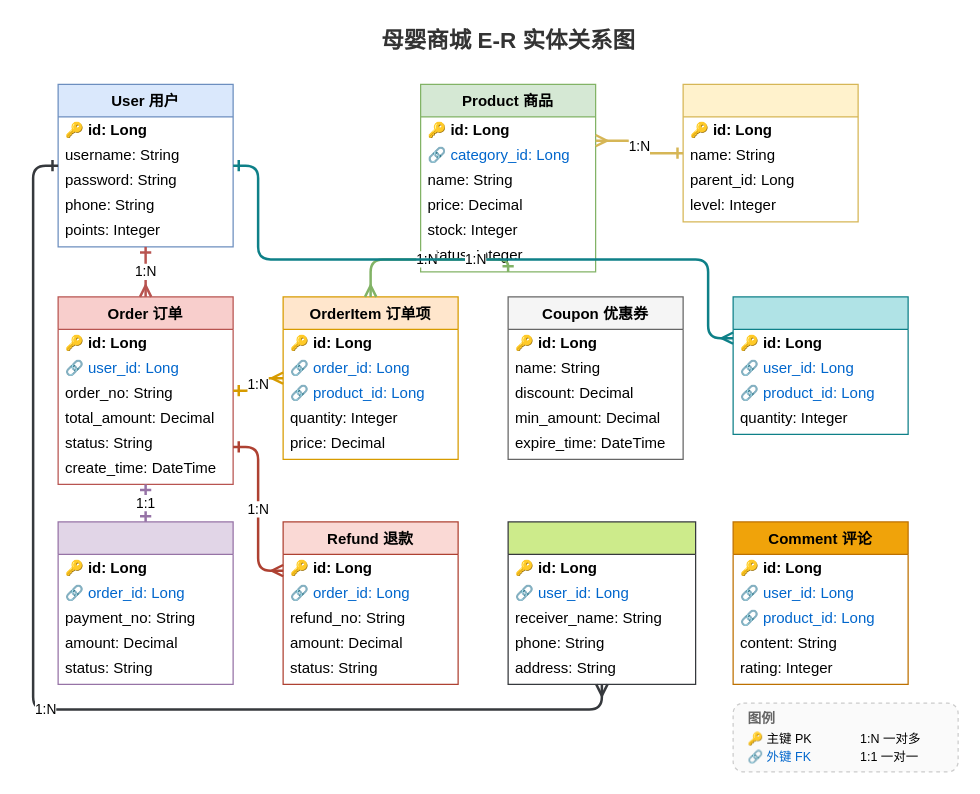
Image size: 980x794. Some labels were removed from this diagram. Each missing label, with the box of its shape:
Cart 购物车: (732, 296, 908, 434)
Category 分类: (682, 83, 858, 222)
Payment 支付: (57, 521, 233, 684)
UserAddress 地址: (507, 521, 696, 684)
